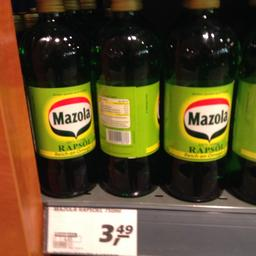oil: (18, 0, 97, 199), (159, 0, 234, 203), (88, 0, 162, 195)
